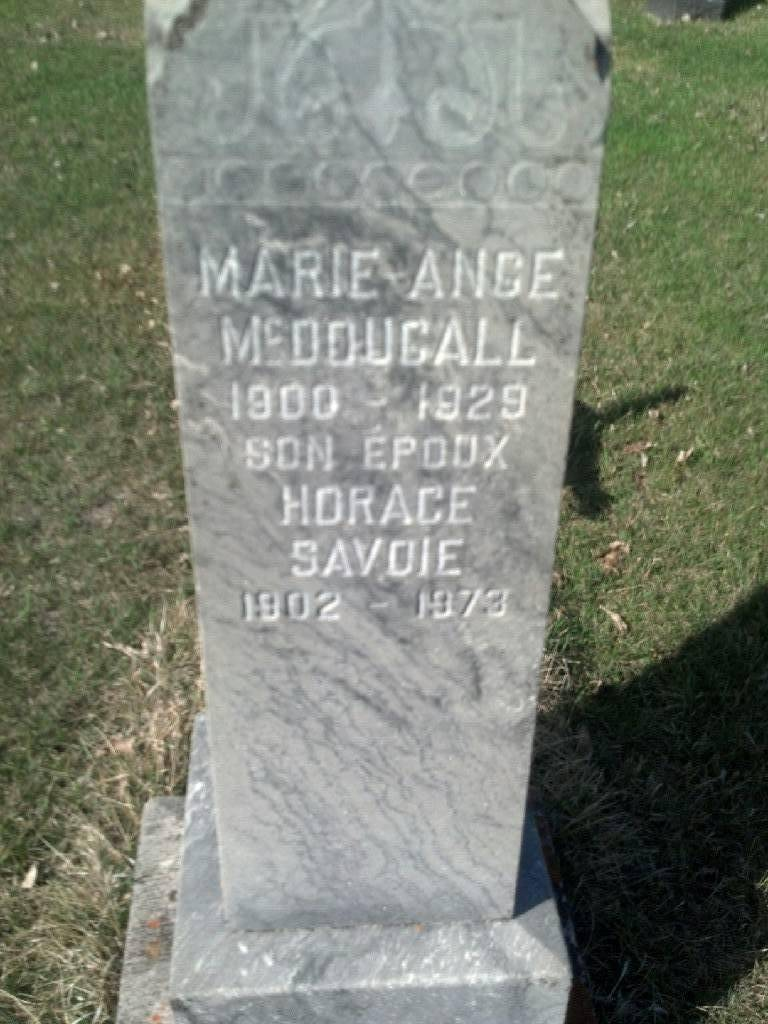upright: (109, 4, 631, 1020)
